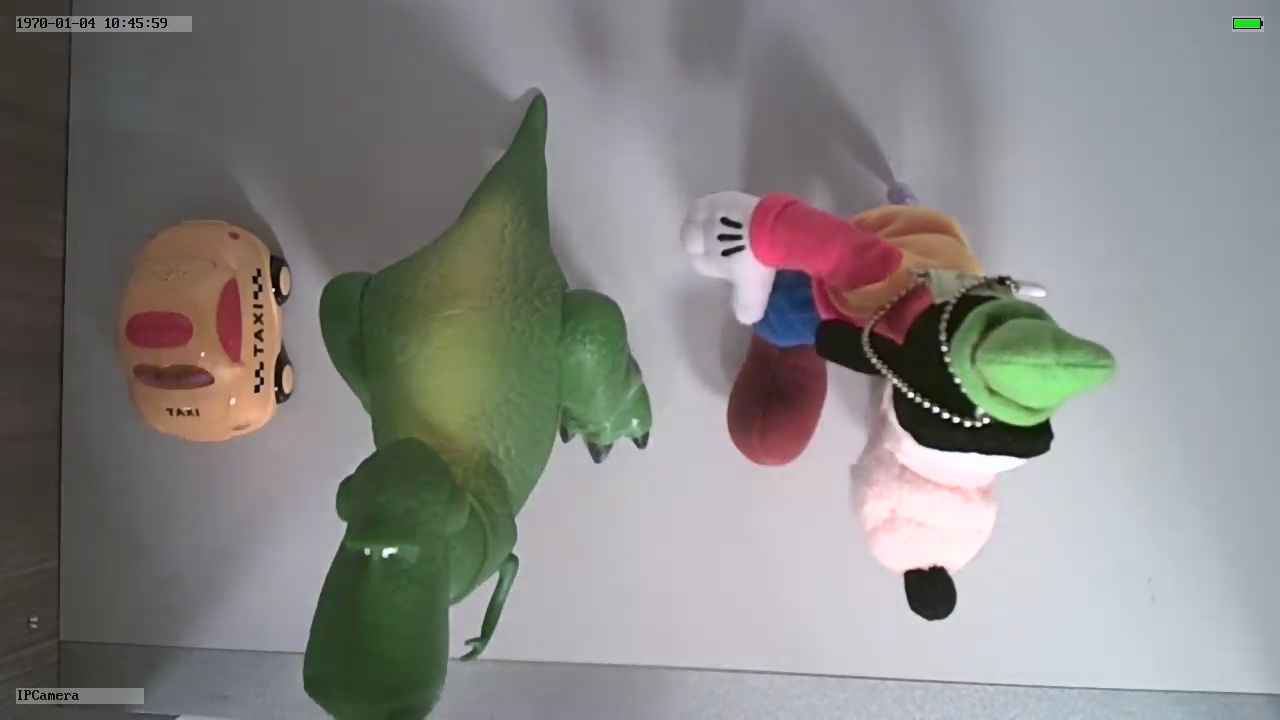car: (113, 211, 296, 447)
goofy: (675, 185, 1120, 629)
rex: (305, 162, 657, 720)
